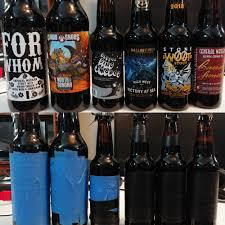beer: (1, 1, 225, 223)
